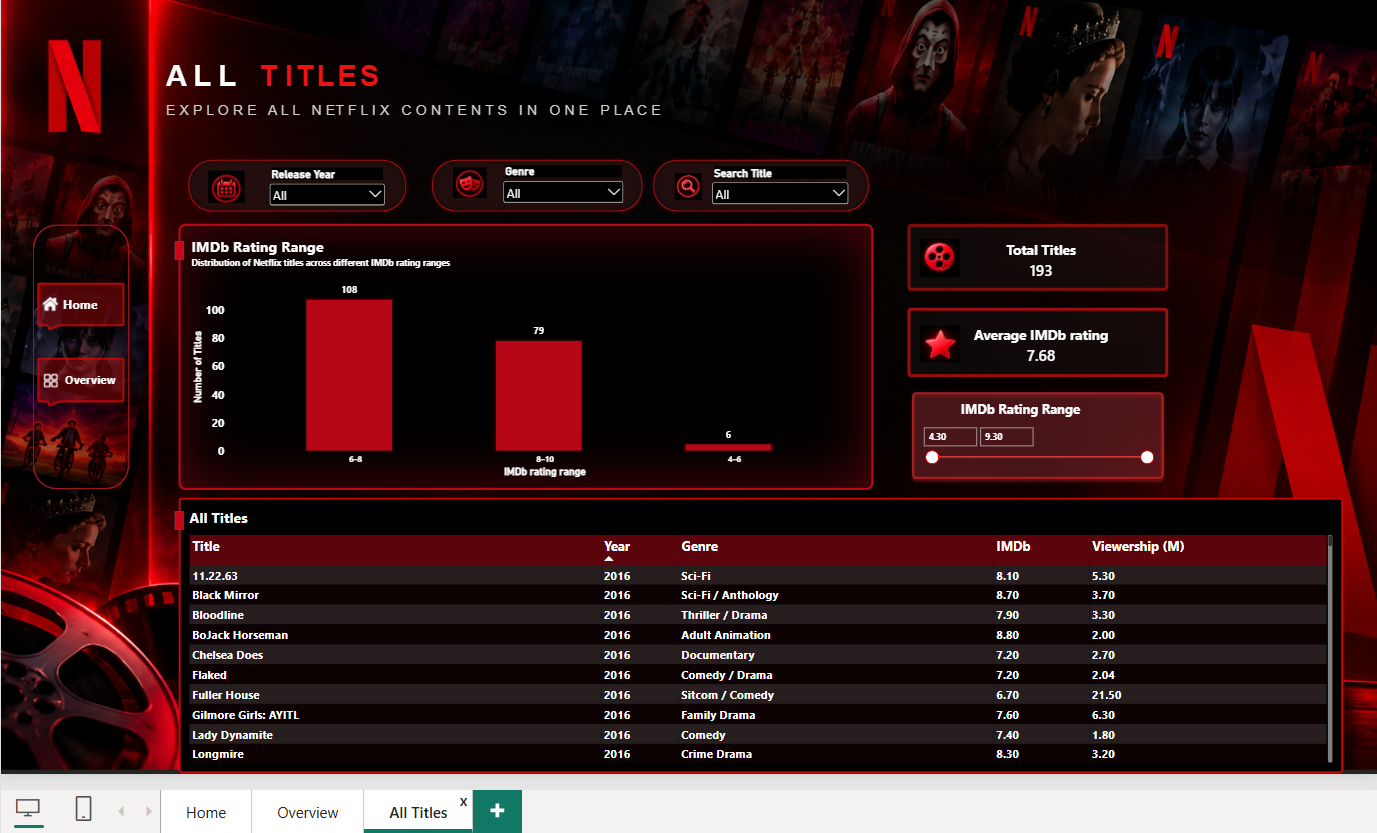

This screenshot's page, from the dashboard's own definition file:
{"tool":"powerbi","page":{"name":"All Titles","canvas":[2560,1440],"ordinal":2},"visuals":[{"type":"shape","box":[339.5,288.4,423.3,114],"z":0},{"type":"slicer","fields":{"Values":["01_Netflix_2016_2025.Release Date.Variation.Date Hierarchy.Year"]},"box":[495.4,311.6,223.3,67.4],"z":1000},{"type":"actionButton","box":[381.4,297.7,76,80],"z":2000},{"type":"shape","box":[1204.7,288.4,418.6,114],"z":3000},{"type":"shape","box":[793,288.4,409.3,114],"z":4000},{"type":"slicer","fields":{"Values":["01_Netflix_2016_2025.Genre"]},"box":[930.2,307,232.6,76.7],"z":5000},{"type":"actionButton","box":[837.2,288.4,70,80],"z":6000},{"type":"slicer","fields":{"Values":["01_Netflix_2016_2025.Title"]},"box":[1318.6,309.3,262.8,74.4],"z":7000},{"type":"actionButton","box":[1239.5,314,78,66],"z":8000},{"type":"cardVisual","fields":{"Data":["CountNonNull(01_Netflix_2016_2025.Title)"]},"box":[1686.1,416.3,486,125.6],"z":9000},{"type":"cardVisual","fields":{"Data":["Avg(01_Netflix_2016_2025.IMDb)"]},"box":[1686.1,572.1,486,130.2],"z":10000},{"type":"clusteredColumnChart","title":"IMDb Rating Range","fields":{"Category":["01_Netflix_2016_2025.IMDb Rating Range"],"Y":["CountNonNull(01_Netflix_2016_2025.Title)"]},"box":[330.2,416.3,1293,495.4],"z":11000},{"type":"shape","box":[1686.1,720.9,486,179.1],"z":12000},{"type":"slicer","fields":{"Values":["01_Netflix_2016_2025.IMDb"]},"box":[1709.3,790.7,439.5,90.7],"z":13000},{"type":"textbox","box":[1709.3,744.2,374.4,46.5],"z":14000},{"type":"shape","box":[58.1,416.3,181.4,495.4],"z":15000},{"type":"actionButton","box":[67.4,525.6,162.8,90.7],"z":16000},{"type":"actionButton","box":[67.4,665.1,162.8,93],"z":17000},{"type":"textbox","box":[306,112,974,190],"z":18000},{"type":"tableEx","title":"All Titles","fields":{"Values":["01_Netflix_2016_2025.Title","01_Netflix_2016_2025.Release Date.Variation.Date Hierarchy.Year","01_Netflix_2016_2025.Genre","01_Netflix_2016_2025.IMDb","01_Netflix_2016_2025.Viewership (M)"]},"box":[330.2,925.6,2167.4,514],"z":19000},{"type":"image","box":[1709.3,434.9,74.4,90.7],"z":20000},{"type":"image","box":[1709.3,597.7,74.4,83.7],"z":21000},{"type":"shape","box":[323.3,448.8,17,34],"z":22000},{"type":"shape","box":[323.3,951.2,17,34],"z":23000}]}

Visuals, with their boxes on the page's 2560x1440 design canvas (x1, y1, x2, y2). These are canvas units, not pixel positions in the 1377x833 screenshot, which may show the page scaled, cropped or inside an application window:
shape: {"x1": 340, "y1": 288, "x2": 763, "y2": 402}
slicer - 01_Netflix_2016_2025.Release Date.Variation.Date Hierarchy.Year: {"x1": 495, "y1": 312, "x2": 719, "y2": 379}
actionButton: {"x1": 381, "y1": 298, "x2": 457, "y2": 378}
shape: {"x1": 1205, "y1": 288, "x2": 1623, "y2": 402}
shape: {"x1": 793, "y1": 288, "x2": 1202, "y2": 402}
slicer - 01_Netflix_2016_2025.Genre: {"x1": 930, "y1": 307, "x2": 1163, "y2": 384}
actionButton: {"x1": 837, "y1": 288, "x2": 907, "y2": 368}
slicer - 01_Netflix_2016_2025.Title: {"x1": 1319, "y1": 309, "x2": 1581, "y2": 384}
actionButton: {"x1": 1240, "y1": 314, "x2": 1318, "y2": 380}
cardVisual - CountNonNull(01_Netflix_2016_2025.Title): {"x1": 1686, "y1": 416, "x2": 2172, "y2": 542}
cardVisual - Avg(01_Netflix_2016_2025.IMDb): {"x1": 1686, "y1": 572, "x2": 2172, "y2": 702}
"IMDb Rating Range" clusteredColumnChart: {"x1": 330, "y1": 416, "x2": 1623, "y2": 912}
shape: {"x1": 1686, "y1": 721, "x2": 2172, "y2": 900}
slicer - 01_Netflix_2016_2025.IMDb: {"x1": 1709, "y1": 791, "x2": 2149, "y2": 881}
textbox: {"x1": 1709, "y1": 744, "x2": 2084, "y2": 791}
shape: {"x1": 58, "y1": 416, "x2": 240, "y2": 912}
actionButton: {"x1": 67, "y1": 526, "x2": 230, "y2": 616}
actionButton: {"x1": 67, "y1": 665, "x2": 230, "y2": 758}
textbox: {"x1": 306, "y1": 112, "x2": 1280, "y2": 302}
"All Titles" tableEx: {"x1": 330, "y1": 926, "x2": 2498, "y2": 1440}
image: {"x1": 1709, "y1": 435, "x2": 1784, "y2": 526}
image: {"x1": 1709, "y1": 598, "x2": 1784, "y2": 681}
shape: {"x1": 323, "y1": 449, "x2": 340, "y2": 483}
shape: {"x1": 323, "y1": 951, "x2": 340, "y2": 985}
